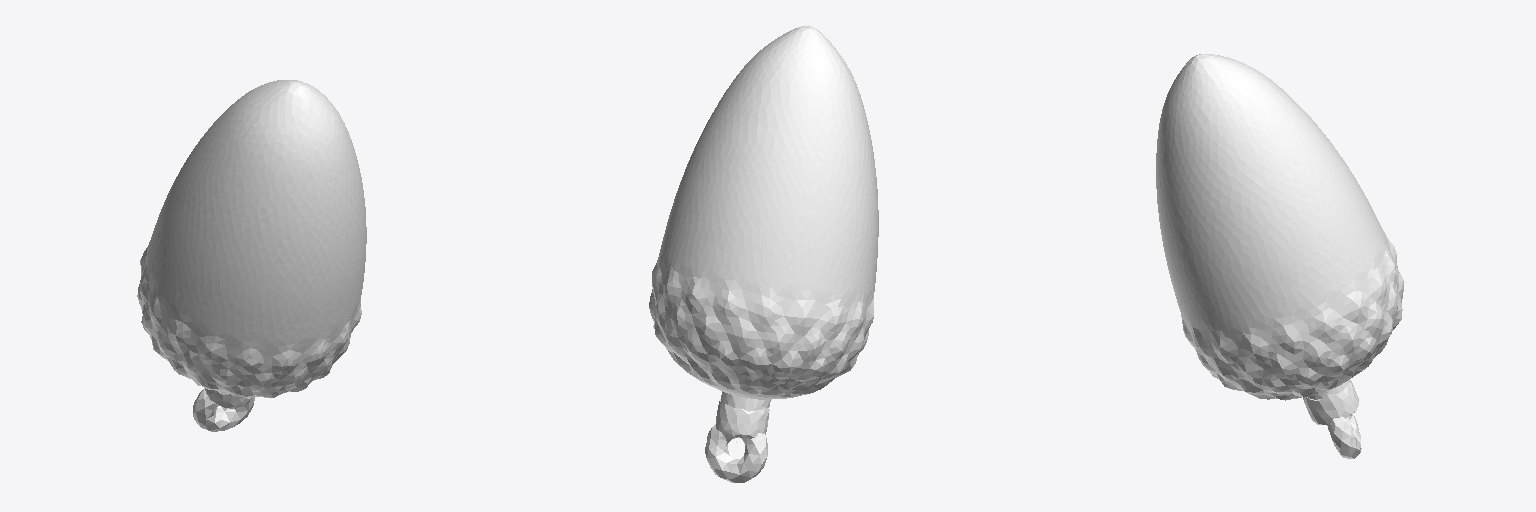
File: pinecone_scaled.obj
3 views of the same model, side by side, from view 1: azimuth 30°, elevation 25°; view 2: azimuth 150°, elevation 25°; view 3: azimuth 270°, elevation 25° (orthographic).
Size of the model in its own units: 8.17 by 15.92 by 8.93.